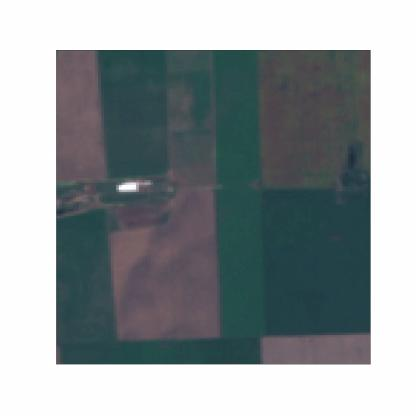silobolsa: (113, 182, 143, 193)
